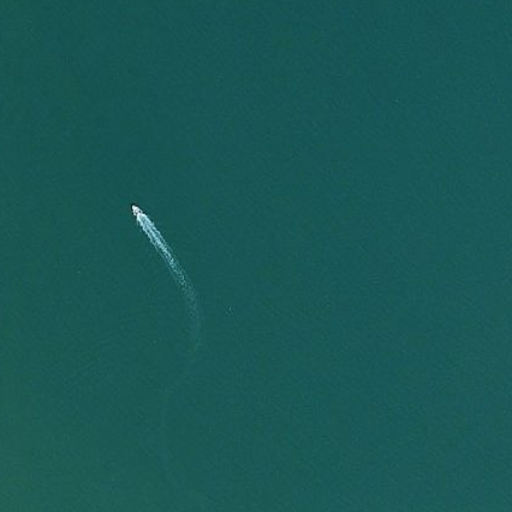ship: (129, 203, 145, 220)
